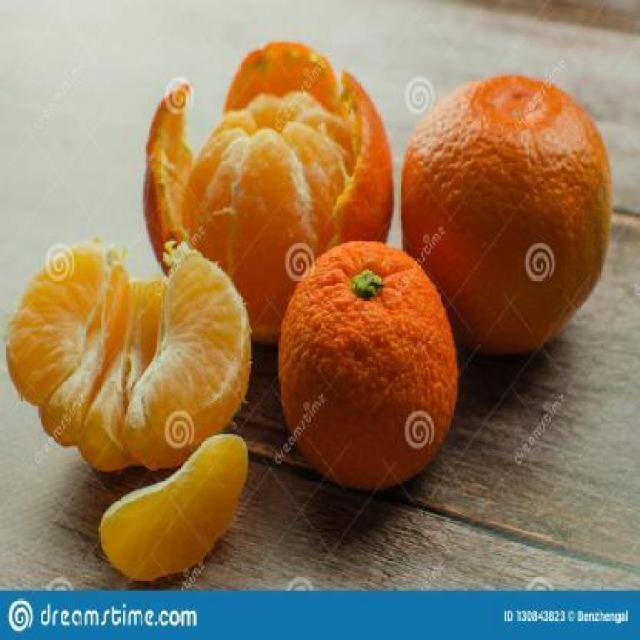Jeruk Sudah Matang: (399, 77, 607, 346), (274, 240, 460, 472)
